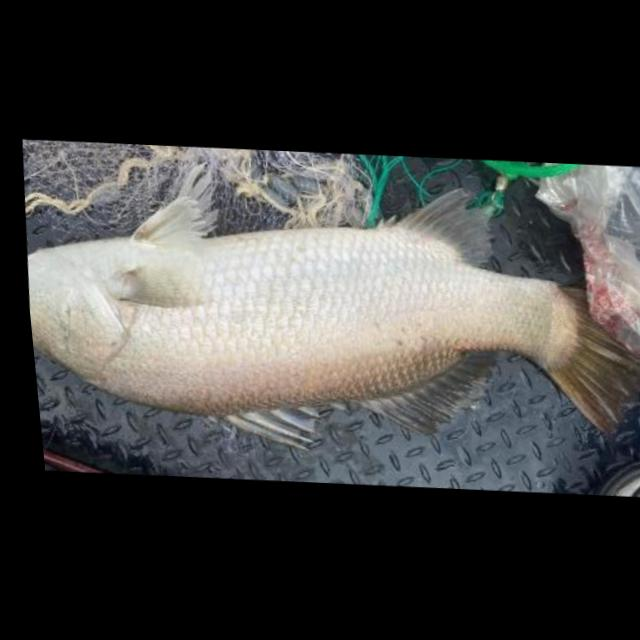Seabass: (14, 143, 640, 468)
